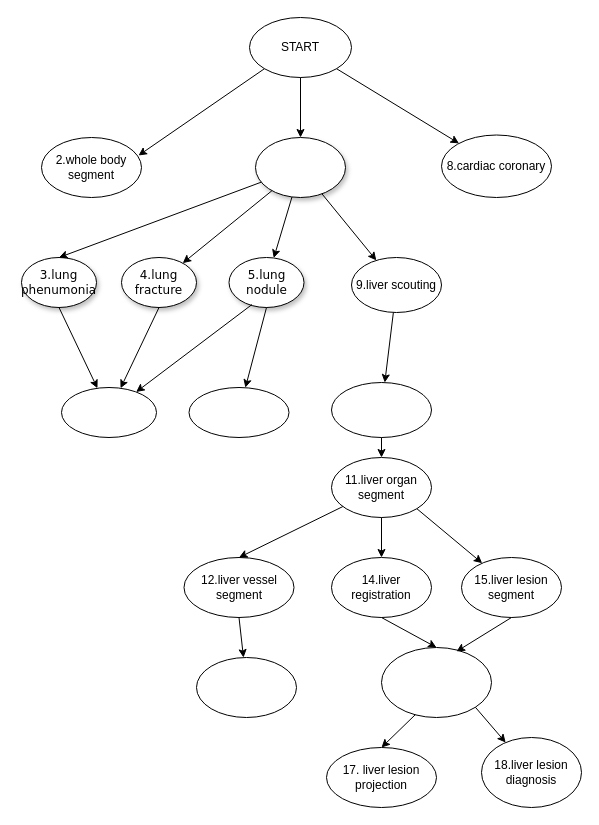
Image size: 599x825. Some labels were removed from this diagram. Each missing label, with the centre of its shape:
"1.body part locate" goes at (x=301, y=168).
"10.liver phase detect" goes at (x=381, y=410).
"13.liver vessel naming" goes at (x=246, y=687).
"16.liver lesion instantiation" goes at (x=436, y=682).
"6.lung result" goes at (x=108, y=412).
"7.lung registration" goes at (x=238, y=412).
